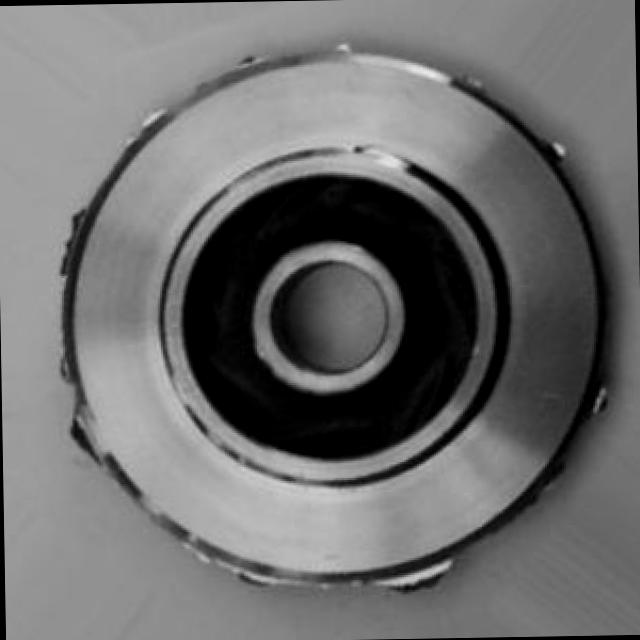Defect: (58, 192, 87, 290)
